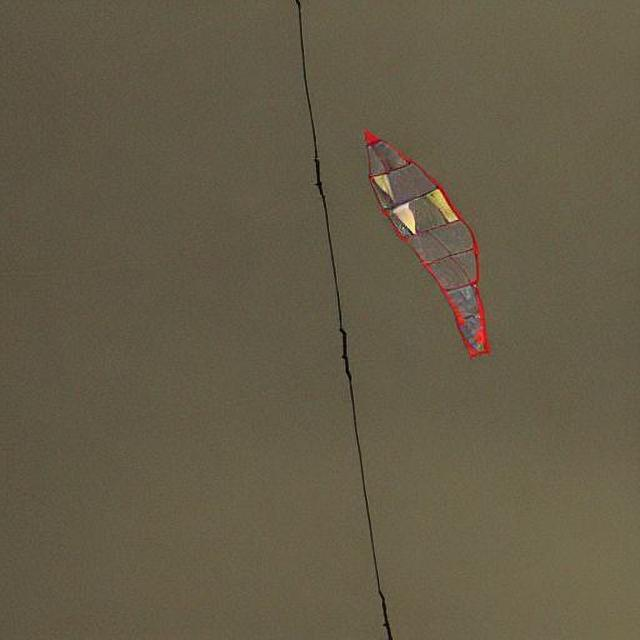floating object: (364, 126, 488, 358)
